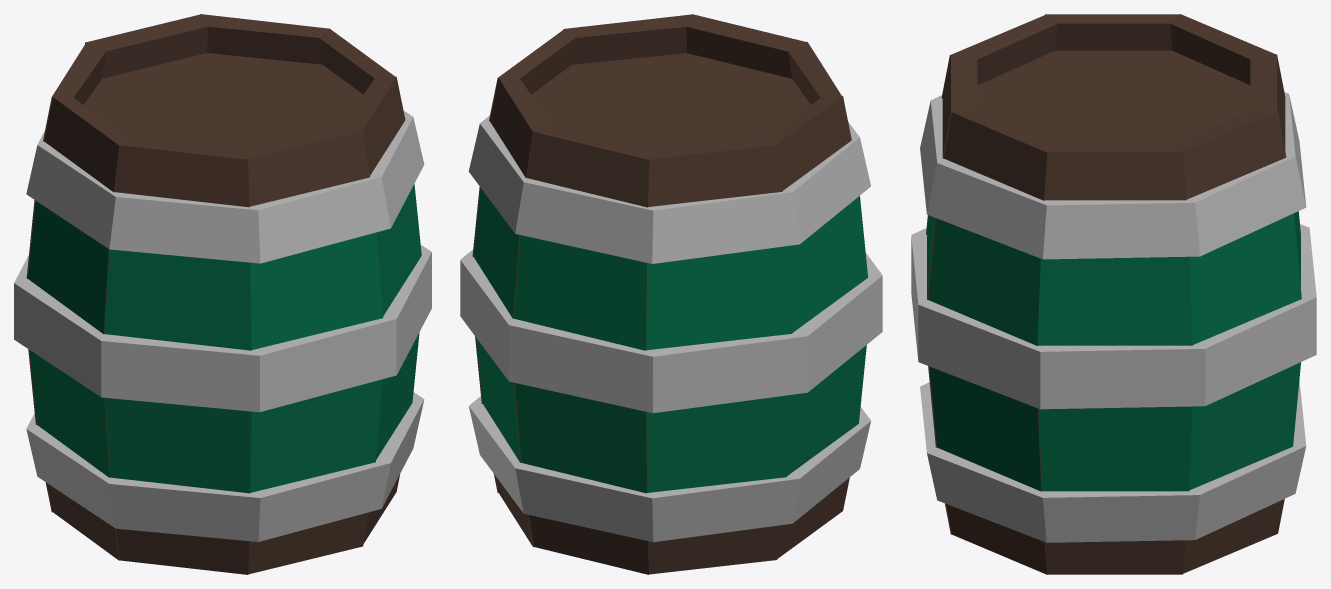
Rendered from Burrel_HP.fbx.
3 views of the same model, side by side, from view 1: azimuth 30°, elevation 25°; view 2: azimuth 150°, elevation 25°; view 3: azimuth 270°, elevation 25° (orthographic).
Parts seen in each view (by area): view 1: Barrel; view 2: Barrel; view 3: Barrel.
Boxes of the visible parts, bbox=[...] form: Barrel: bbox=[14, 14, 431, 574]; Barrel: bbox=[460, 14, 882, 574]; Barrel: bbox=[911, 14, 1316, 574].
Size of the model in its own units: 121 by 139 by 121.
